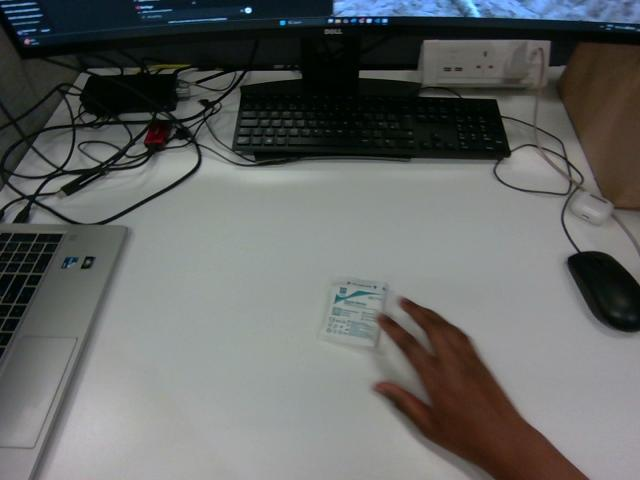gauze: (319, 279, 387, 348)
